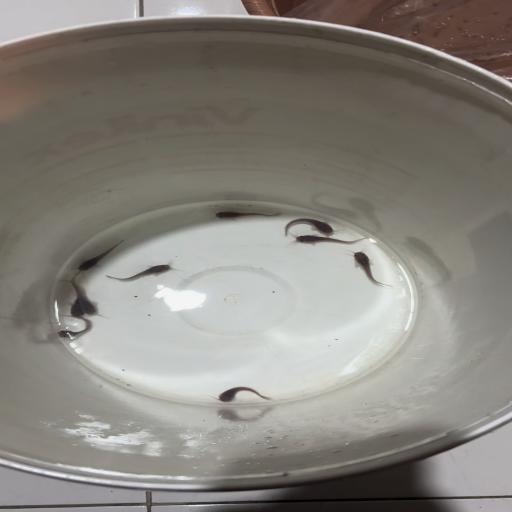lele: (107, 260, 181, 286), (346, 248, 394, 288), (73, 238, 123, 274), (208, 384, 273, 404), (71, 271, 99, 312), (278, 217, 338, 236), (52, 313, 94, 339), (57, 279, 85, 318), (206, 208, 283, 222), (290, 234, 369, 245)
